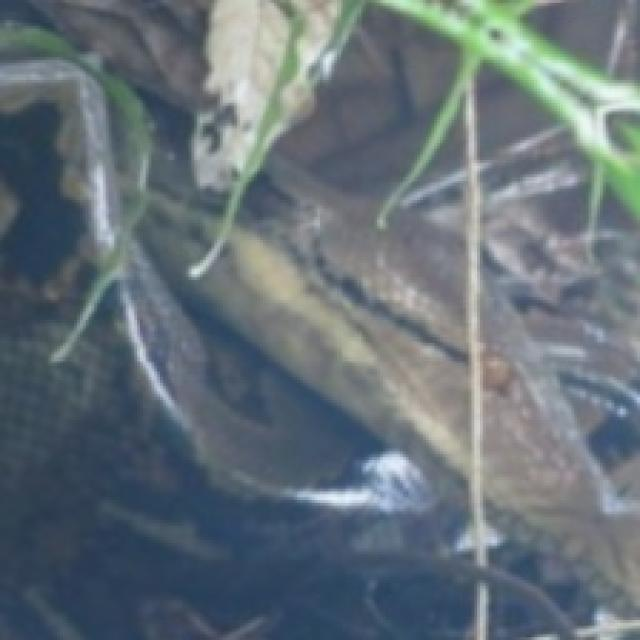reticulated python: (0, 0, 471, 637), (0, 60, 431, 520), (477, 69, 637, 637)
